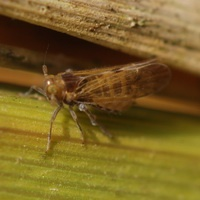insect: (32, 59, 170, 122)
